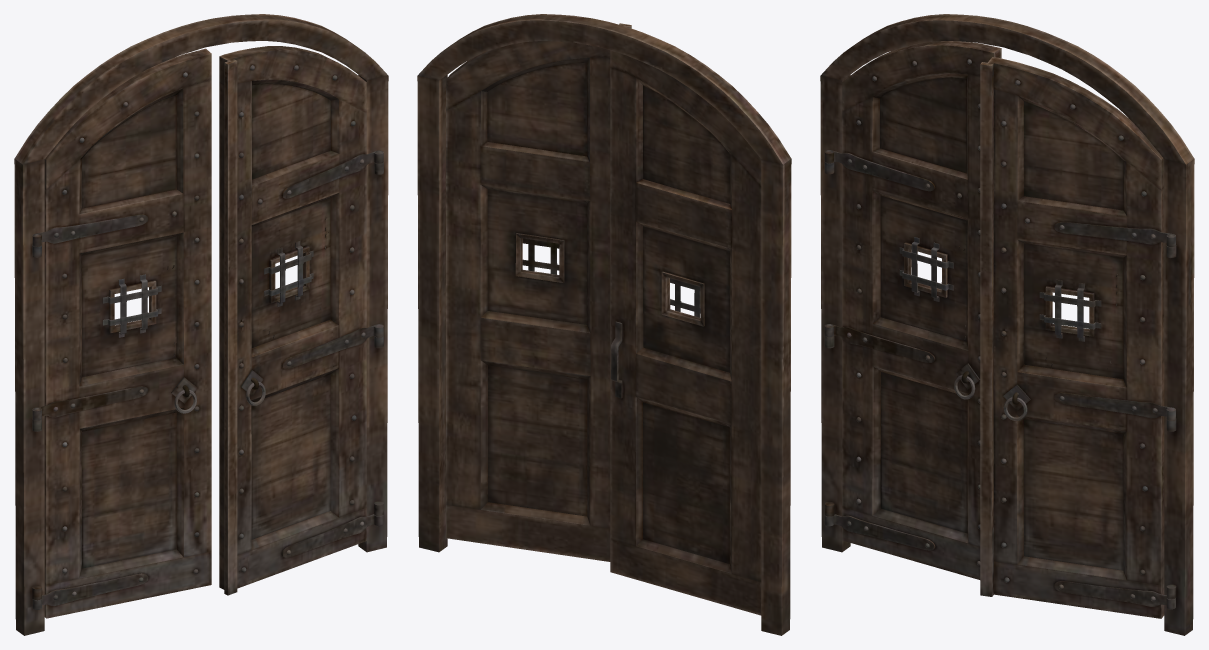
File: large_castle_door.glb
The picture shows the model from 3 angles, left to right: view 1: azimuth 30°, elevation 25°; view 2: azimuth 150°, elevation 25°; view 3: azimuth 330°, elevation 25°; orthographic projection.
Parts seen in each view (by area): view 1: large_castle_door_frame; view 2: large_castle_door_frame; view 3: large_castle_door_frame.
Boxes of the visible parts, box(x1,y1,x2,y2) form: large_castle_door_frame: box(14, 14, 388, 635); large_castle_door_frame: box(417, 14, 791, 635); large_castle_door_frame: box(820, 14, 1194, 635).
Size of the model in its own units: 2.01 by 2.96 by 0.2964.
Materials: 1 (1 with a texture image).
